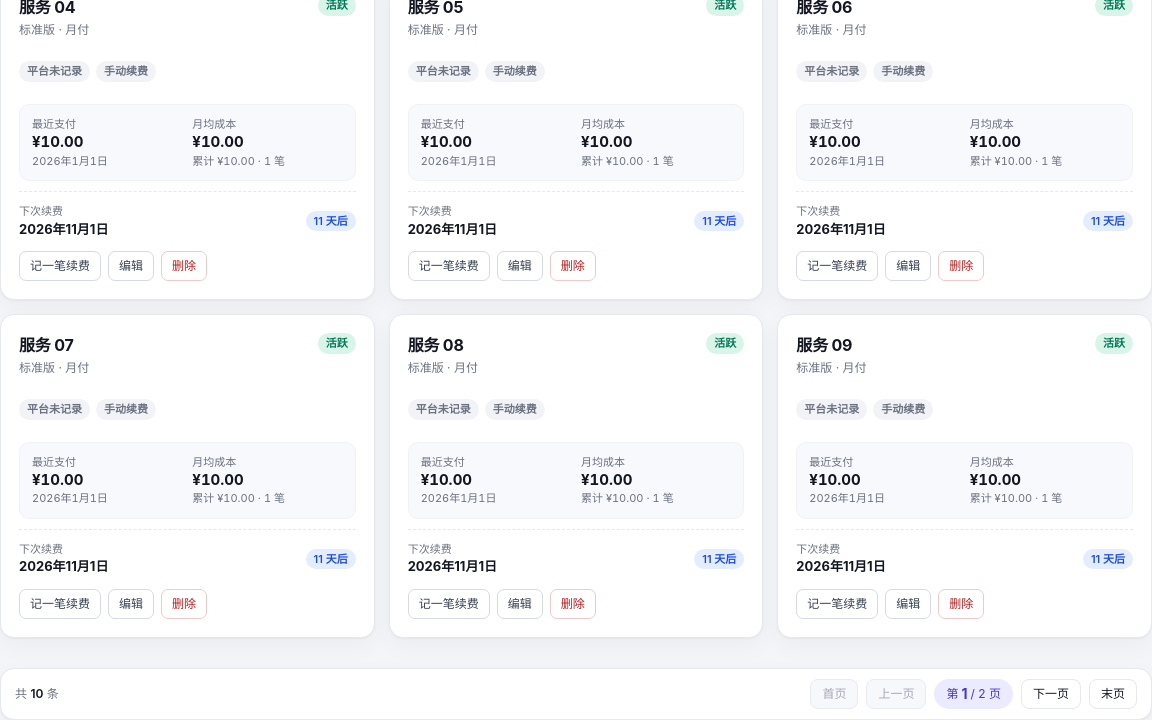
Scenario: Subscriptions › returns to the first page when the status filter changes
(page scrolled)
Click the button "下一页" at (1051, 694), box top-left (1021, 679), bottom-right (1081, 709)
(page scrolled)
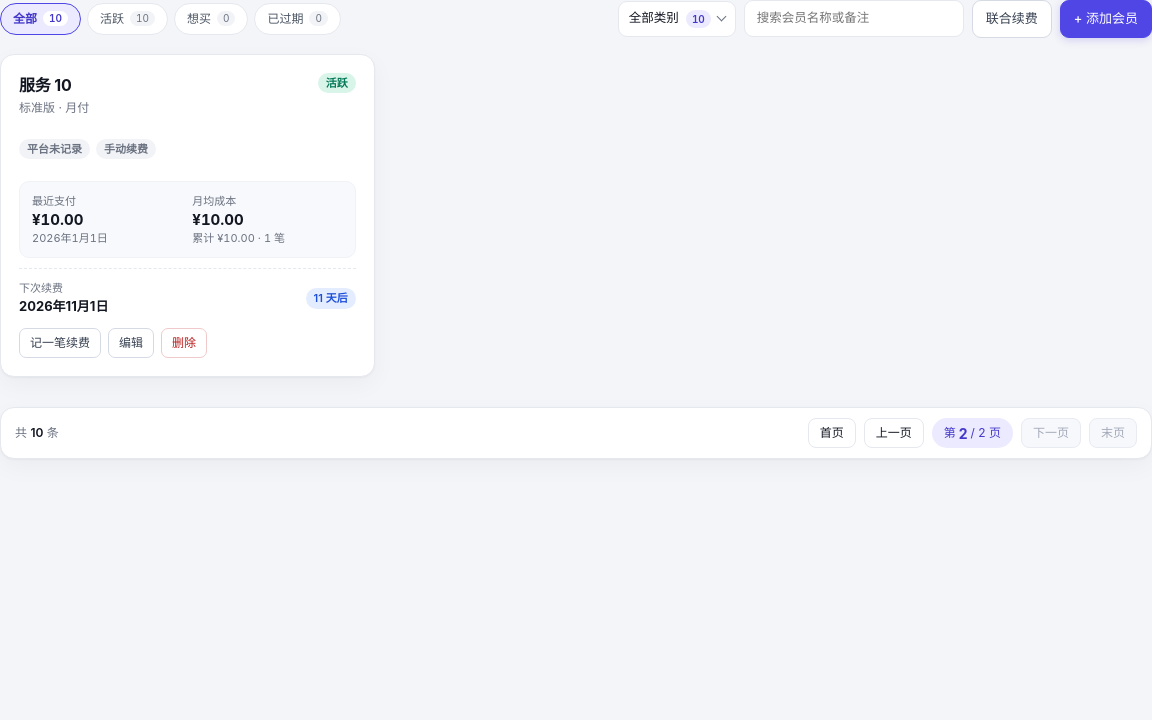
Check: the element showing "第 2 / 2 页" is shown, box top-left (932, 418), bottom-right (1013, 448)
Click the button "活跃 10" at (128, 19), box top-left (87, 3), bottom-right (168, 35)
(page scrolled)
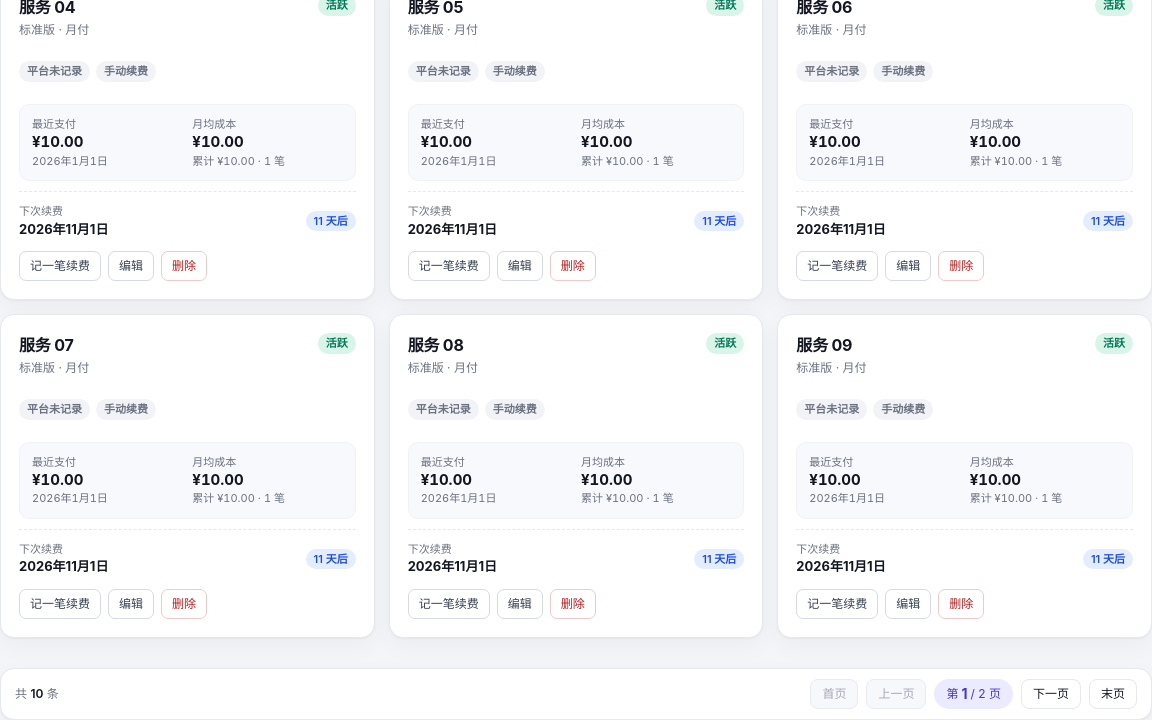
Check: the element showing "第 1 / 2 页" is shown, box top-left (934, 679), bottom-right (1013, 709)
Check: the number of elements with class "sub-card" is 9
